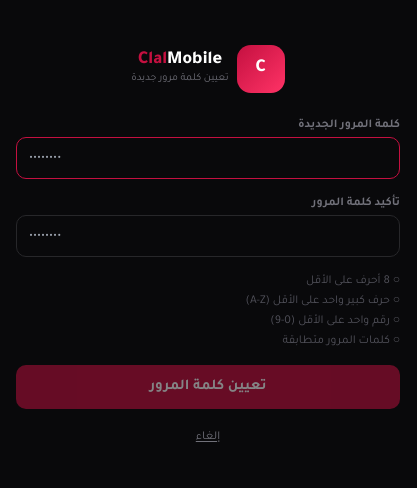
ResetPasswordPage › shows 'link expired' error for expired recovery tokens
Expected: the button "تعيين كلمة المرور" is shown, 16,365 -> 400,409
Type "Password1" into the password field with placeholder "••••••••" at (208, 158), box 16,137 -> 400,179
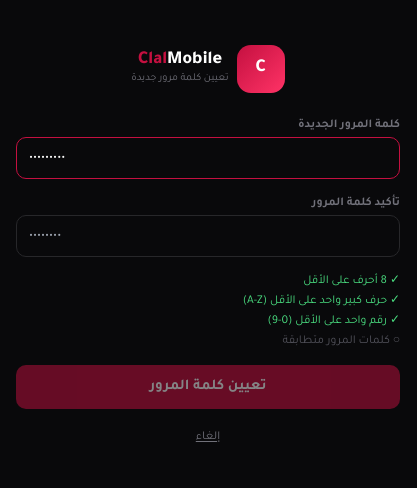
Type "Password1" into the password field with placeholder "••••••••" at (208, 236), box 16,215 -> 400,257
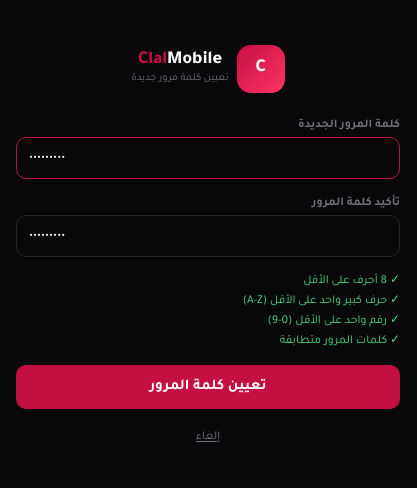
Submit the form with placeholder "••••••••"
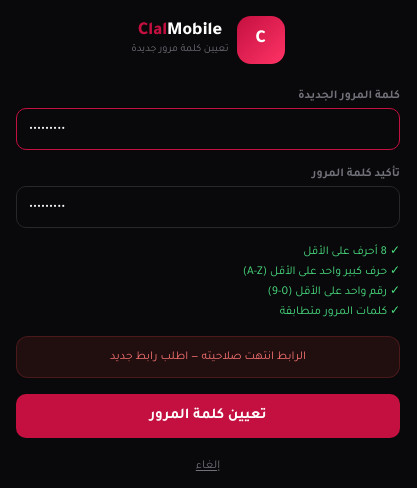
Expected: the text "الرابط انتهت صلاحيته — اطلب رابط جديد" is shown, 16,336 -> 400,378
